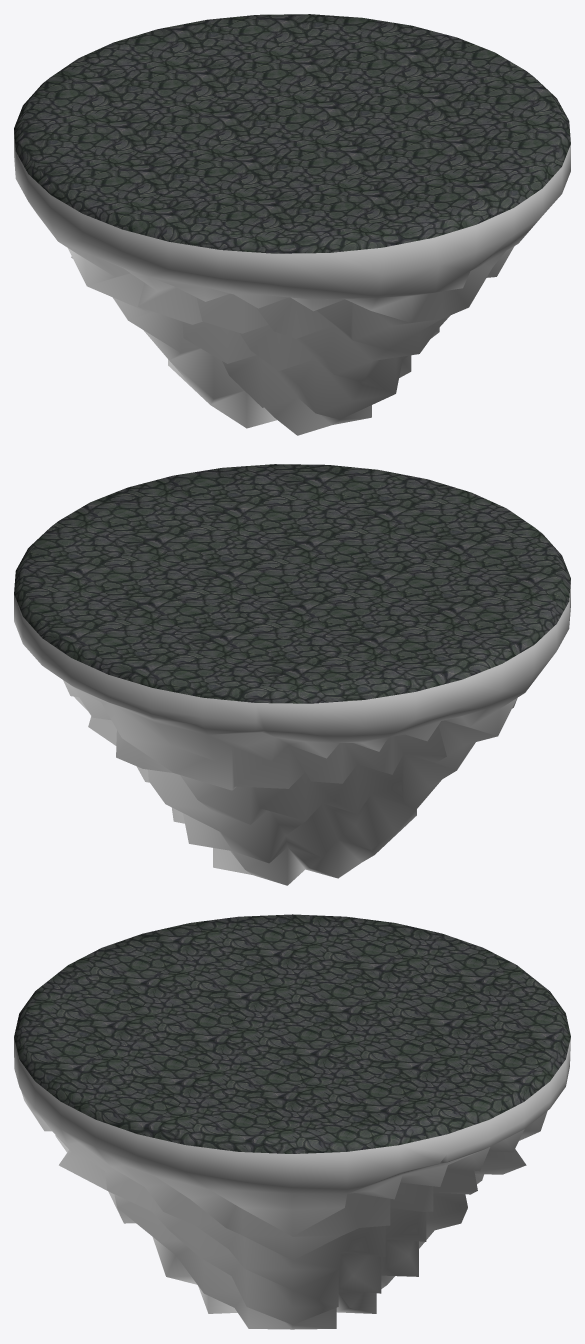
Rendered from Platform base.fbx.
3 renders of one model, top to bottom at view 1: azimuth 30°, elevation 25°; view 2: azimuth 150°, elevation 25°; view 3: azimuth 270°, elevation 25°, orthographic.
Visible parts, largest first — view 1: Earth; view 2: Earth; view 3: Earth.
Boxes of the visible parts, x1,y1,x2,y2 form: Earth: [14, 14, 570, 435]; Earth: [14, 464, 570, 885]; Earth: [14, 914, 570, 1329].
Bounding box in the file's own units: 1997 × 1057 × 1996.
